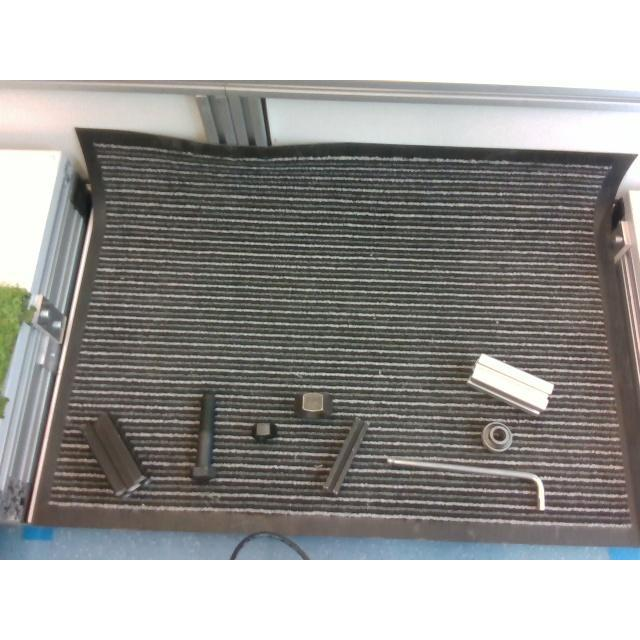AllenKey: (386, 457, 546, 511)
Bearing2: (481, 422, 513, 454)
F20_20_B: (324, 417, 370, 495)
M20: (251, 420, 277, 440)
M20_100: (190, 392, 213, 481)
M30: (295, 392, 333, 418)
S40_40_B: (81, 414, 150, 498)
S40_40_G: (468, 354, 554, 418)
